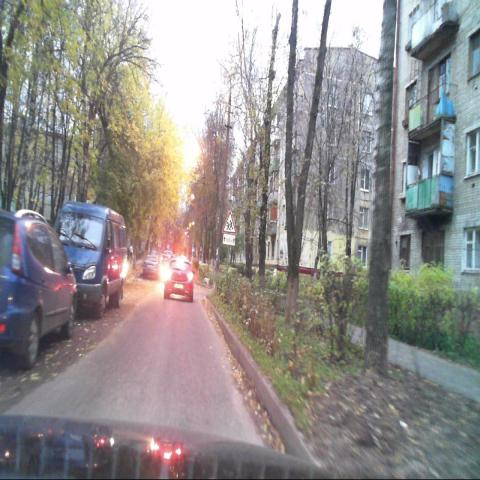1_23: (222, 210, 236, 234)
8_2_1: (222, 233, 236, 246)
